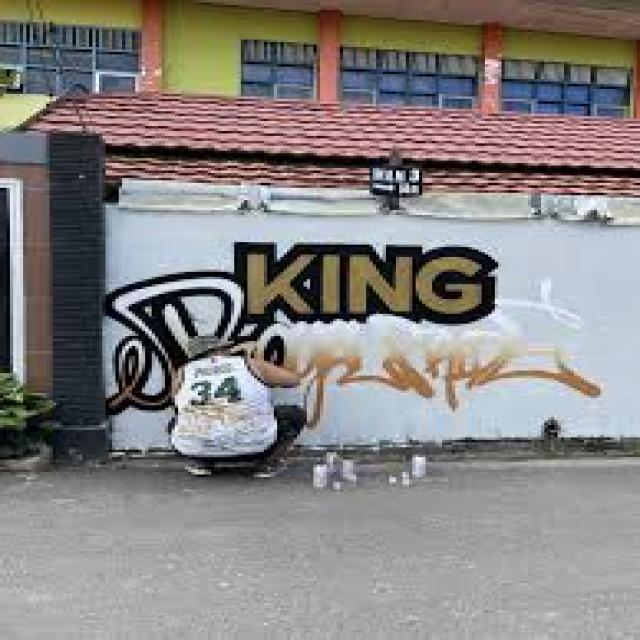-: (107, 240, 604, 431)
